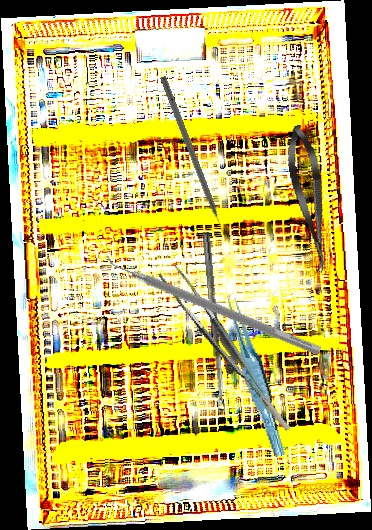Hook Surgical: (158, 75, 227, 239)
Micro Scissor: (281, 123, 338, 275)
Spatula Surgical: (101, 249, 326, 356)
Surgical Spoon: (201, 231, 226, 413)
Tissue Forceps: (158, 254, 291, 449), (224, 289, 287, 461)
